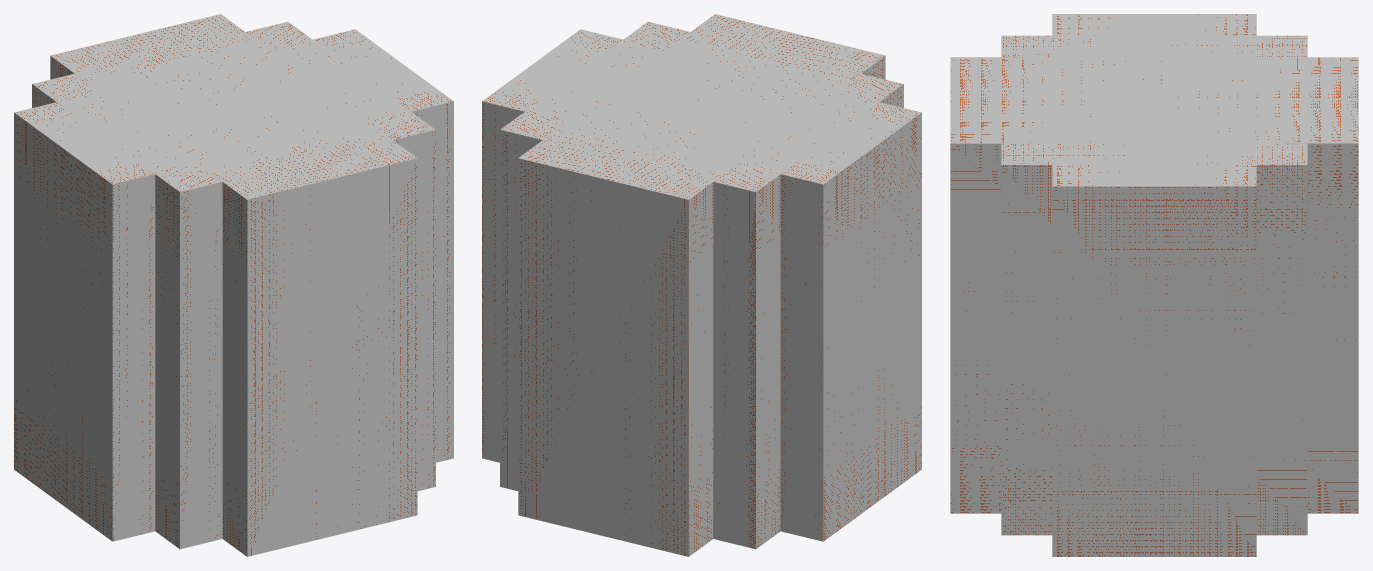
File: brown-trunk-block.fbx
The picture shows the model from 3 angles, left to right: view 1: azimuth 30°, elevation 25°; view 2: azimuth 150°, elevation 25°; view 3: azimuth 270°, elevation 25°; orthographic projection. The views are drawn at different scales.
Visible parts, largest first — view 1: generated; view 2: generated; view 3: generated.
Part boxes in pixels (x1,y1,x2,y2): generated: [14, 14, 453, 556]; generated: [482, 14, 921, 556]; generated: [950, 14, 1358, 556].
Size of the model in its own units: 80 by 80 by 80.
1 material, 1 textured.
